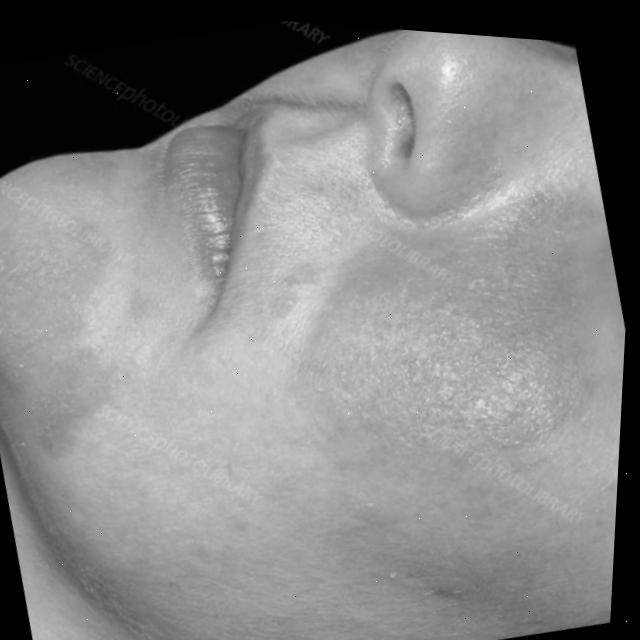Rosacea: (256, 149, 633, 640), (0, 129, 195, 480)
